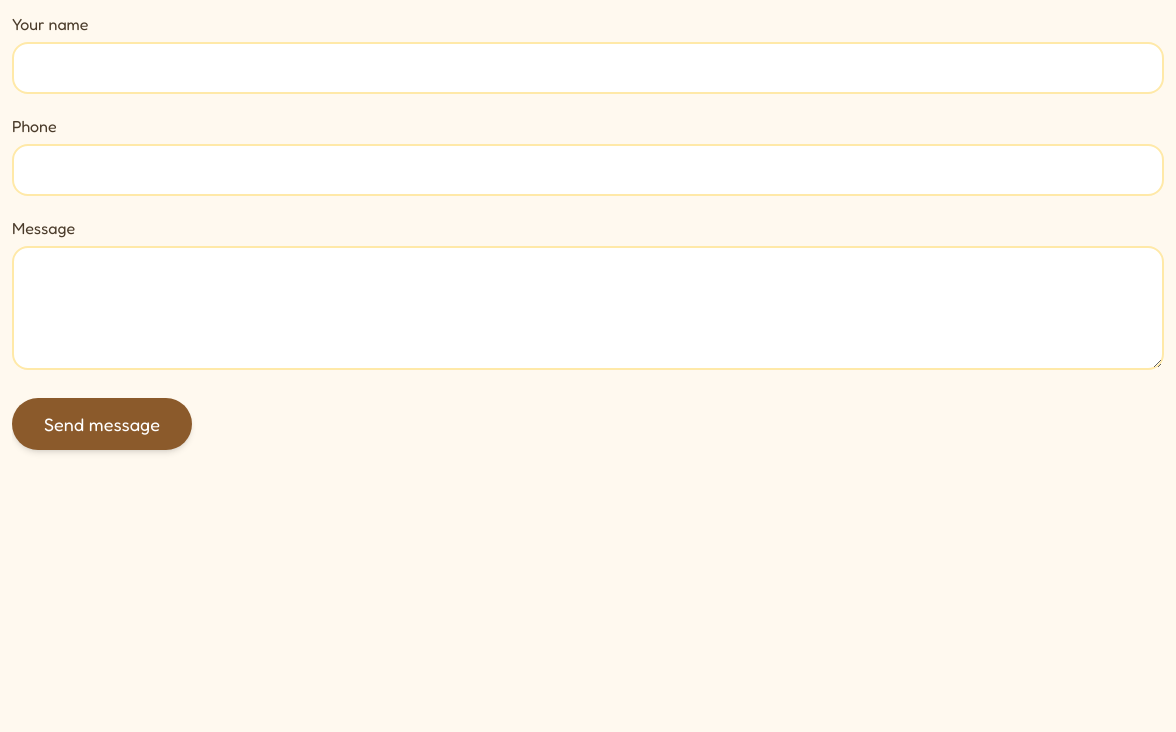
Test case: ContactForm › shows validation errors on empty submit
The image size is (1176, 732).
Click the button "Send message". click: (102, 424)
box: x1=12 y1=398 x2=192 y2=450
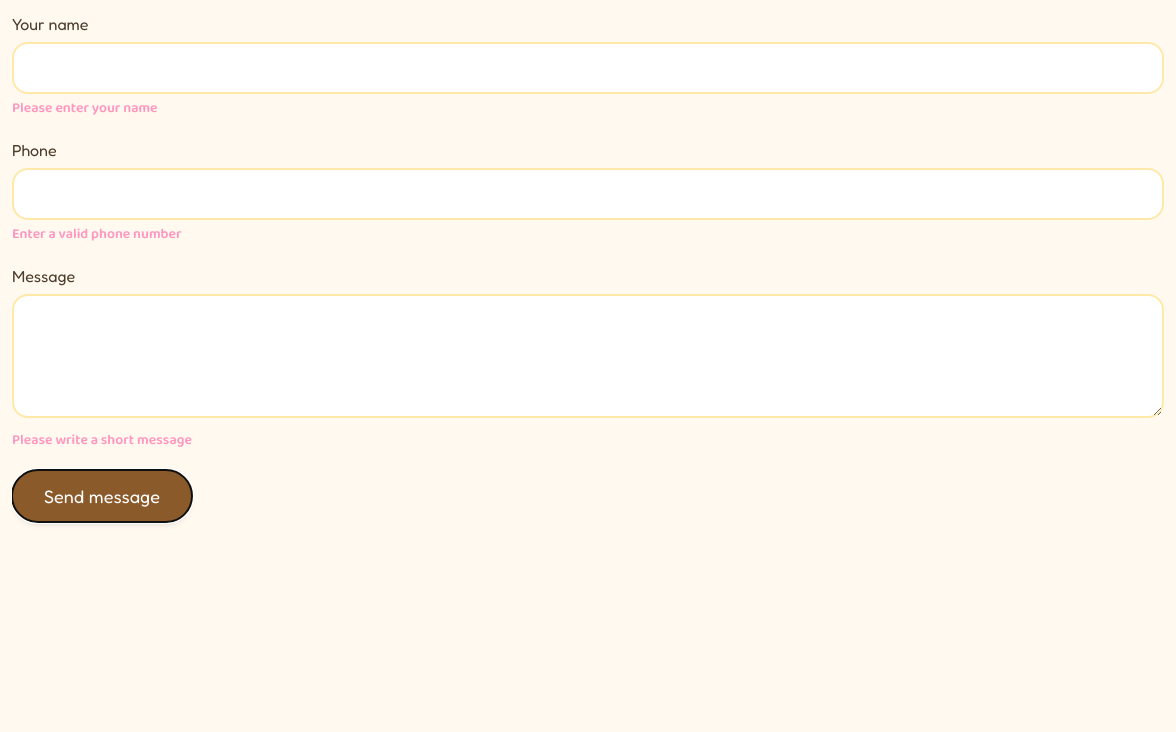
Expected: the text "Please enter your name" is shown, x1=12 y1=97 x2=158 y2=119
Expected: the text "Enter a valid phone number" is shown, x1=12 y1=223 x2=182 y2=245
